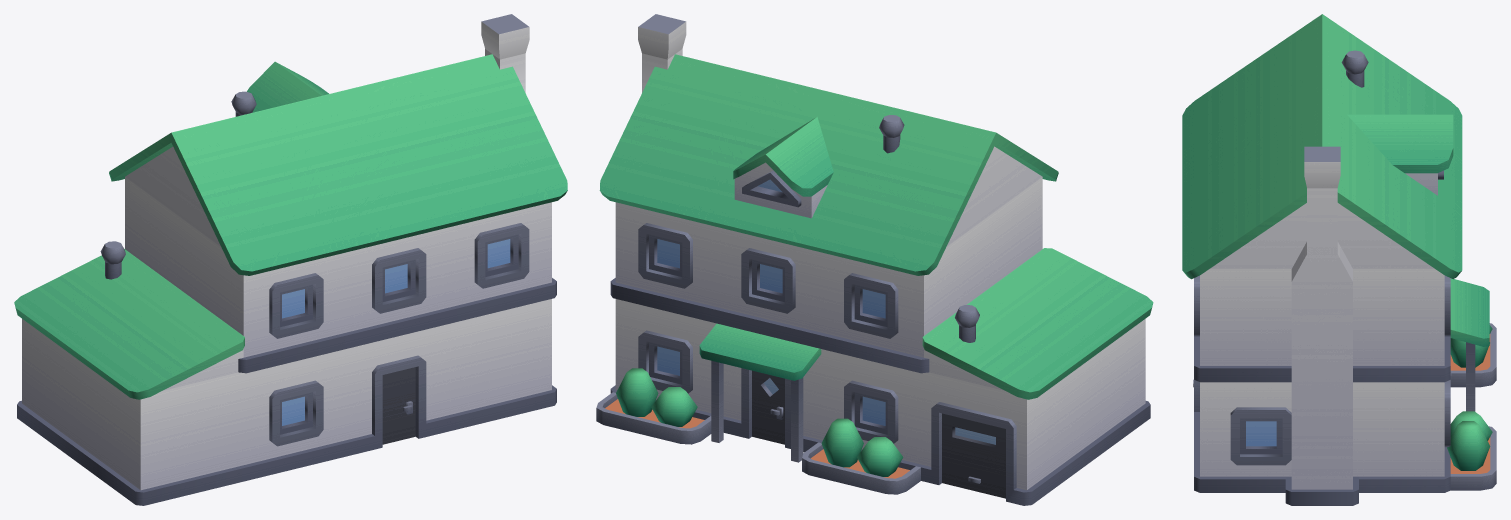
Rendered from house_building_type_d.glb.
The picture shows the model from 3 angles, left to right: view 1: azimuth 30°, elevation 25°; view 2: azimuth 150°, elevation 25°; view 3: azimuth 270°, elevation 25°; orthographic projection. The views are drawn at different scales.
Visible parts, largest first — view 1: building-type-d; view 2: building-type-d; view 3: building-type-d.
Boxes of the visible parts, x1,y1,x2,y2 form: building-type-d: (14,14,567,505); building-type-d: (596,14,1153,505); building-type-d: (1182,14,1496,505).
Bounding box in the file's own units: 10.54 × 7.43 × 6.17.
1 material, 1 textured.
